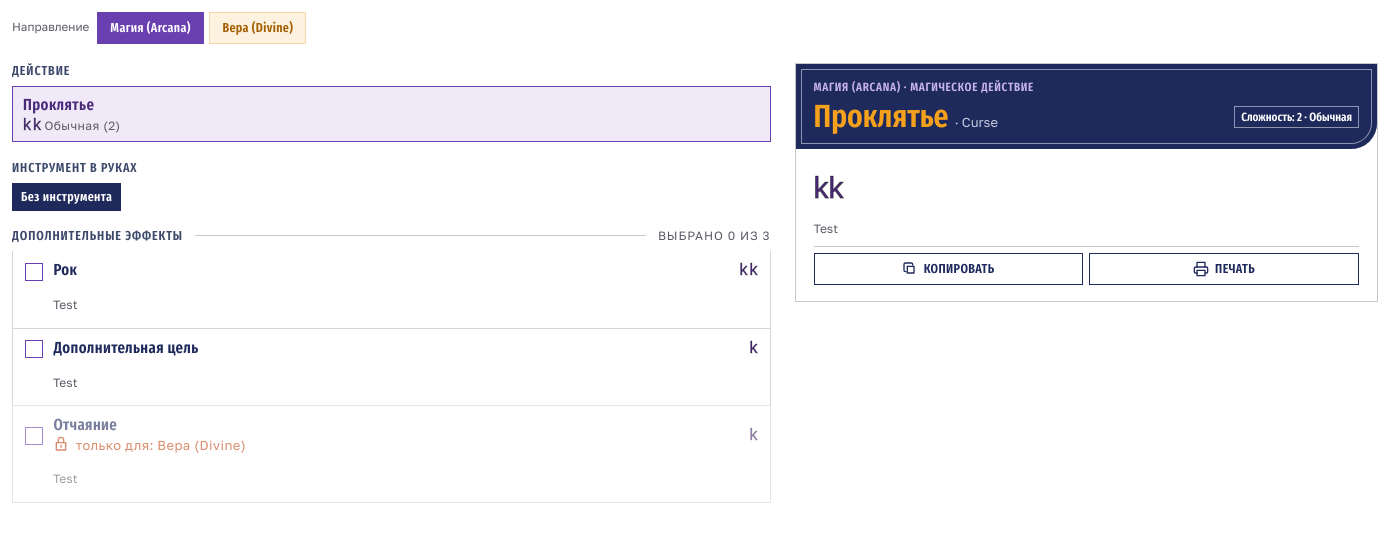
MagicBuilder — доступность эффектов направлению › несочетаемый эффект блокируется, пока выбран его антагонист
The width and height of the screenshot is (1378, 539).
Expected: the text "Сложность: 2 · Обычная" is shown, [1234,106,1359,128]
Click the button "Вера (Divine)".
click(258, 28)  # box [209,12,306,44]
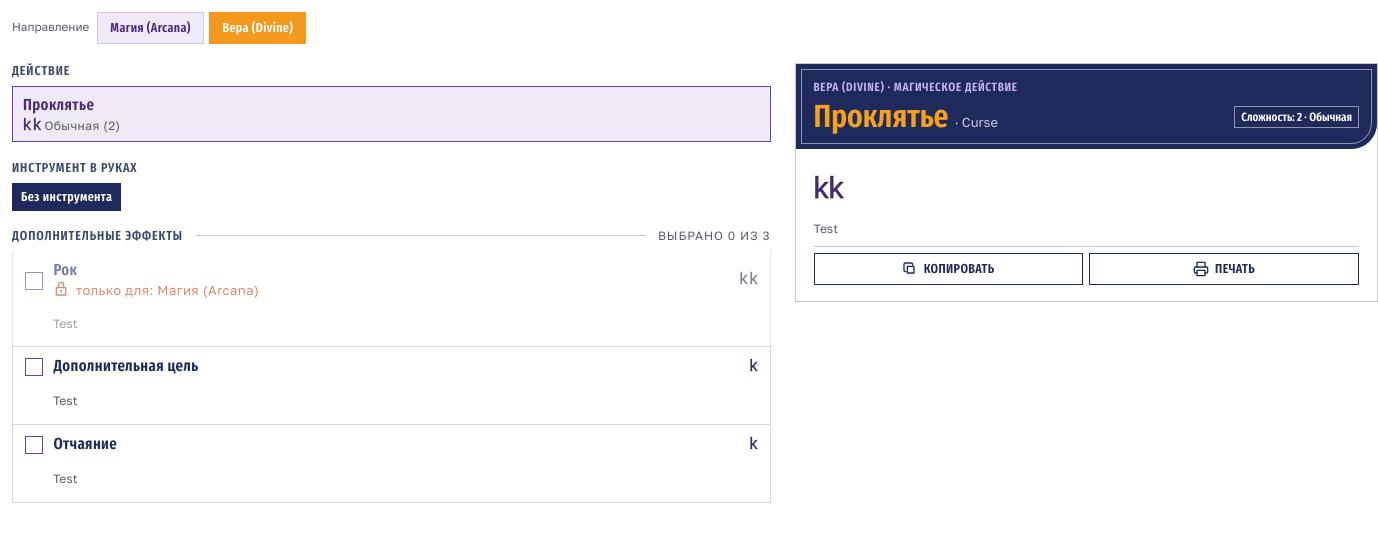
Expected: the checkbox labelled "Отчаяние" is enabled
Click the checkbox labelled "Отчаяние".
click(34, 445)  # box [25,436,43,454]
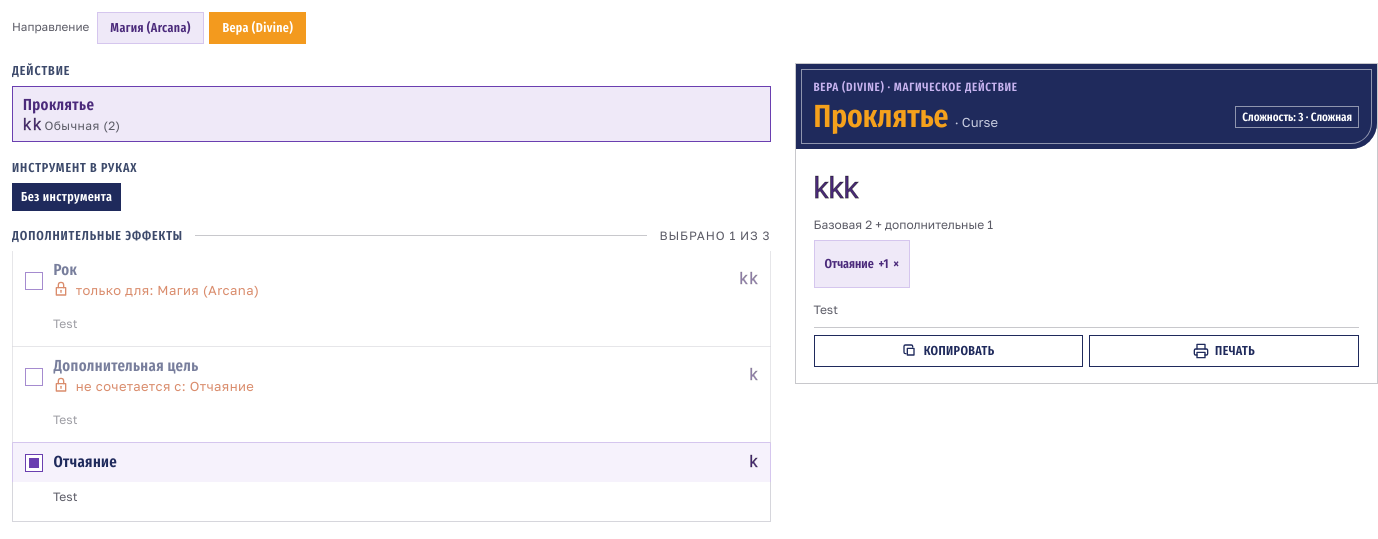
Expected: the checkbox labelled "Дополнительная цель не сочетается с: Отчаяние" is disabled, [25,368,43,386]
Expected: the element "Дополнительная цель не сочетается с: Отчаяние Test" is shown, [12,347,770,443]
Снятие «Отчаяния» снова открывает «Дополнительную цель».
Click the checkbox labelled "Отчаяние".
click(34, 463)  # box [25,454,43,472]
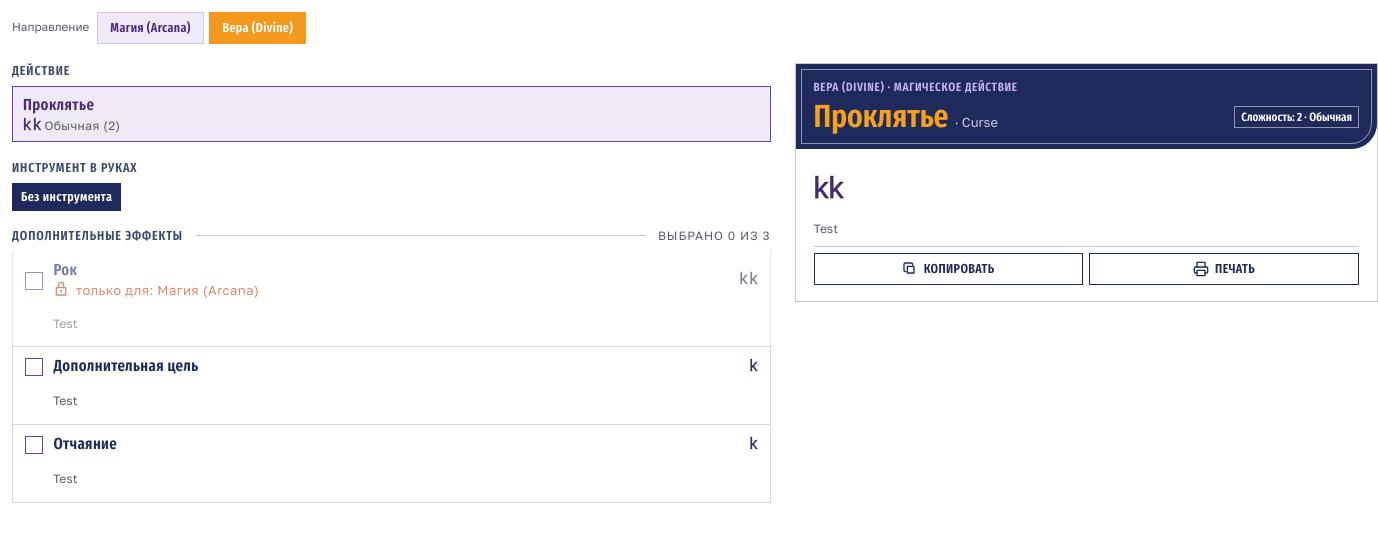
Expected: the checkbox labelled "Дополнительная цель" is enabled, [25,358,43,376]
